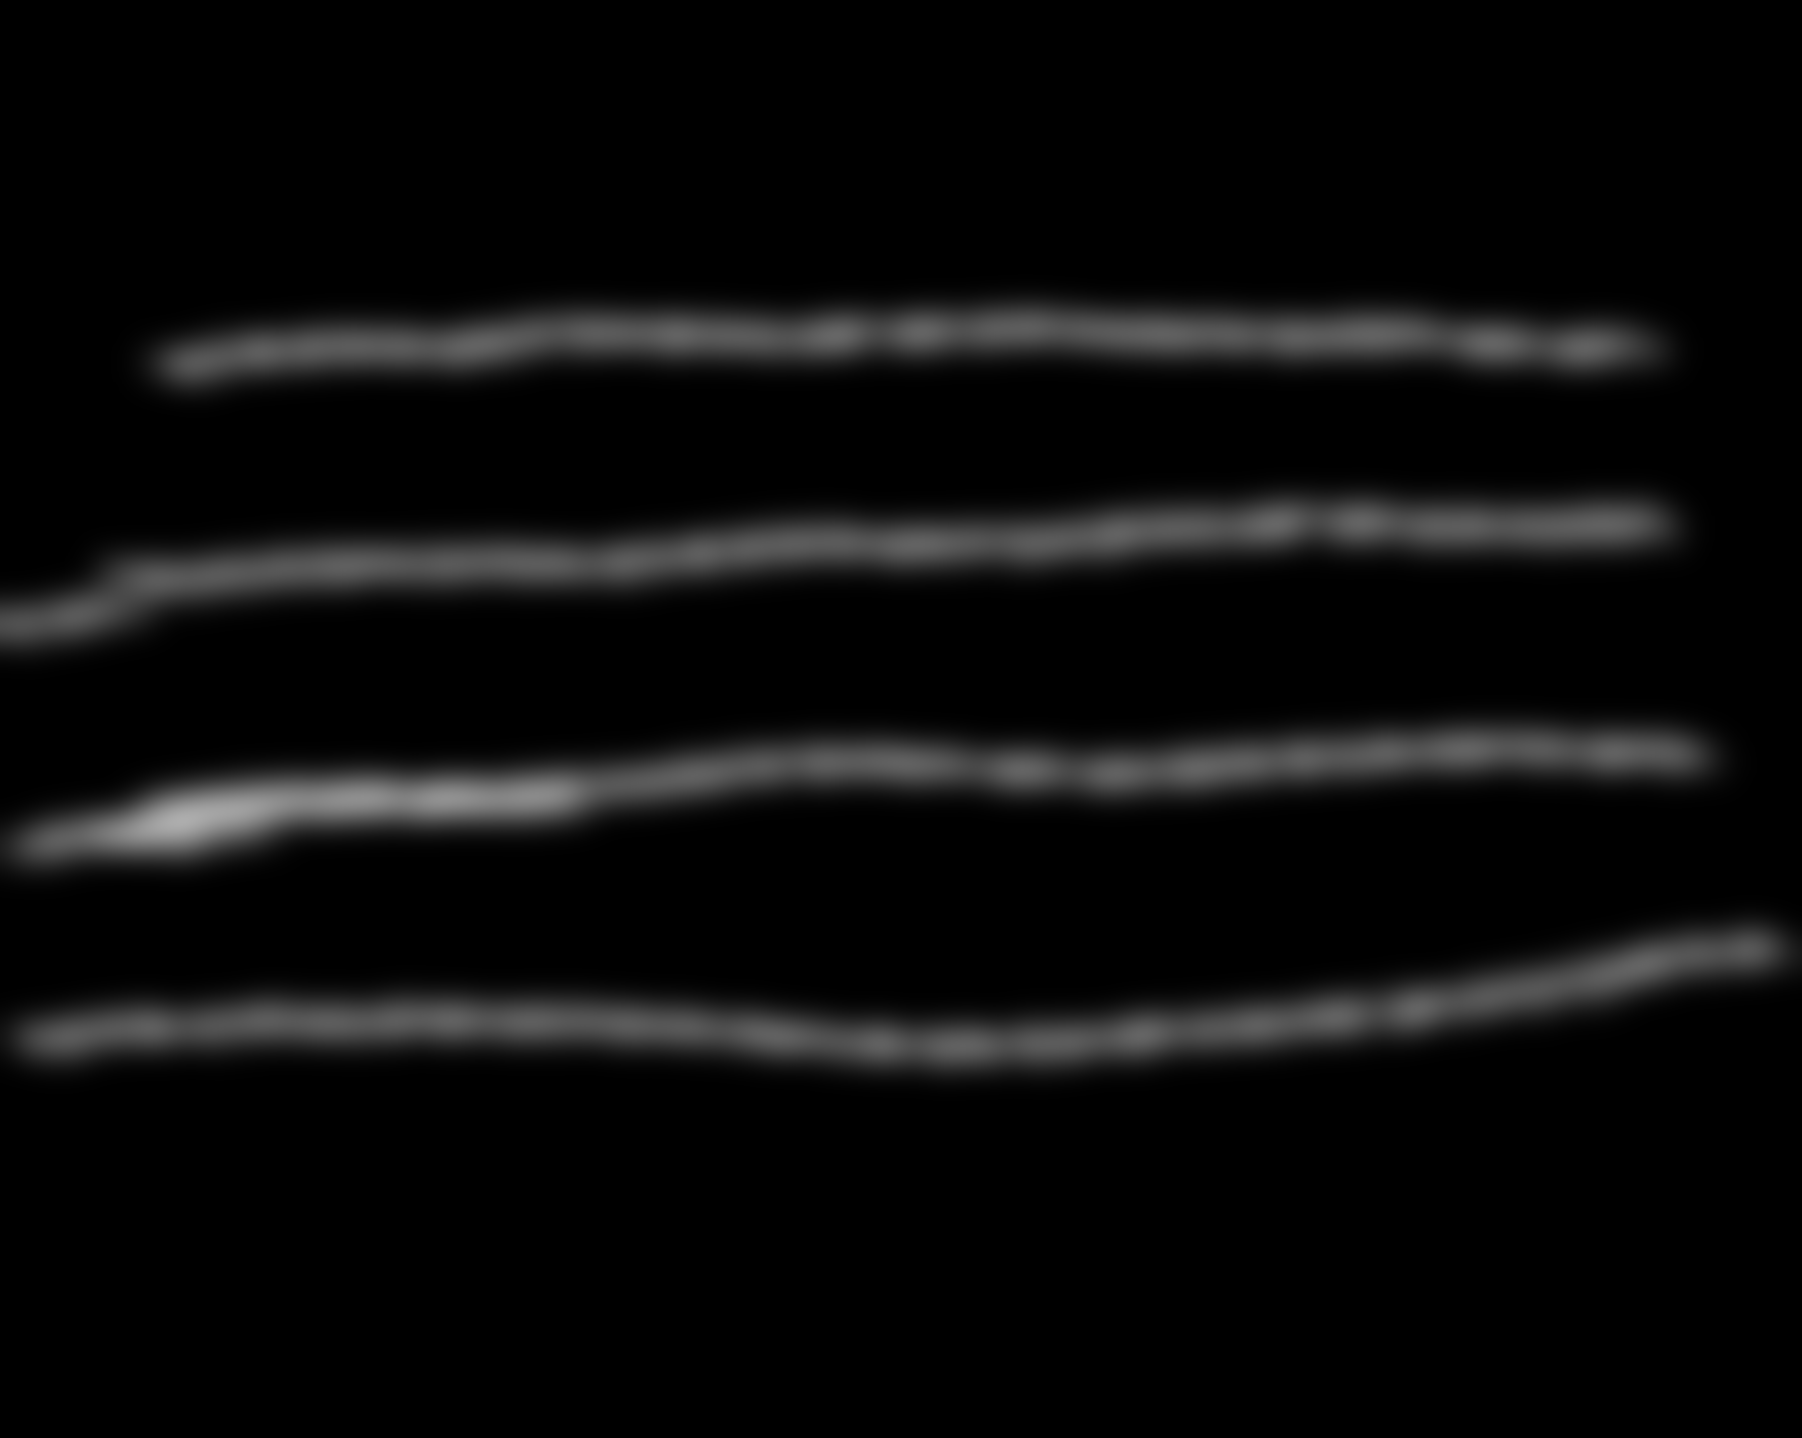Laminar flow: (21, 205, 1780, 1200)
